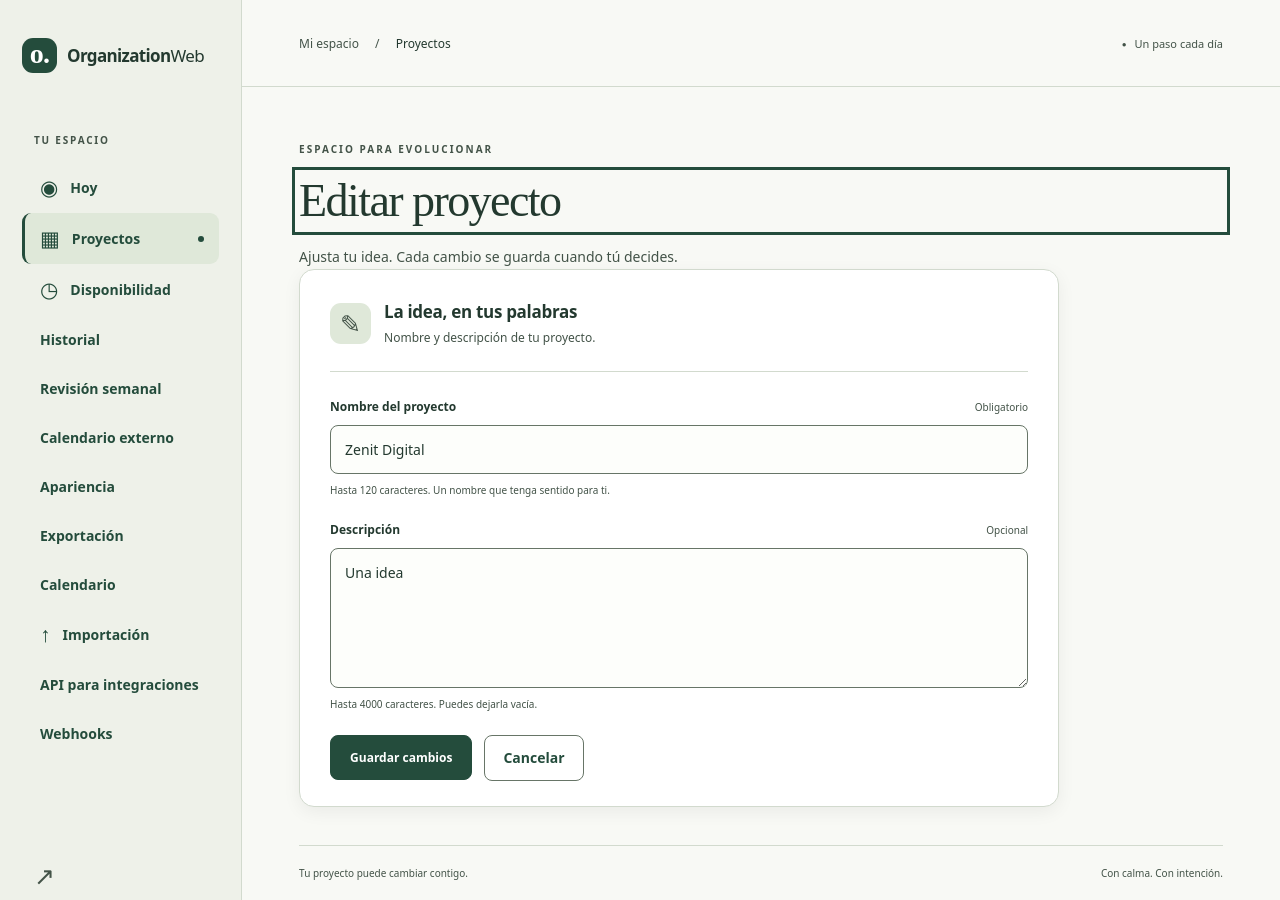
it: @s20 retira datos privados si guardar responde 401
Expected: the field labelled "Nombre del proyecto Obligatorio" is shown, [330,425,1028,474]
Step 1. Click the button "Guardar cambios" → coordinates (401, 758), box [330,736,472,780]
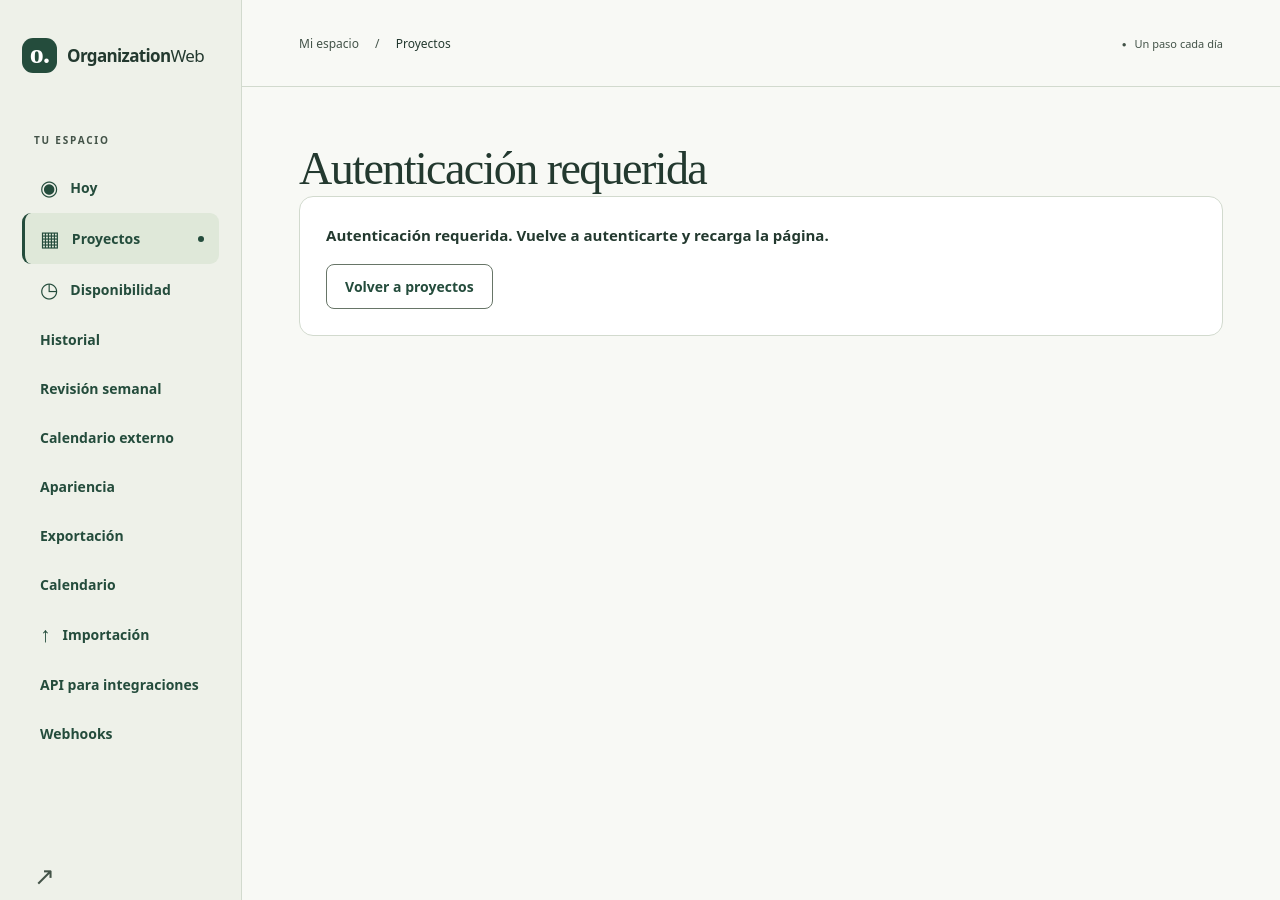
Expected: the message shows "Autenticación requerida", [326,225,829,245]
Expected: the field is gone
Expected: the button "Guardar cambios" is gone
